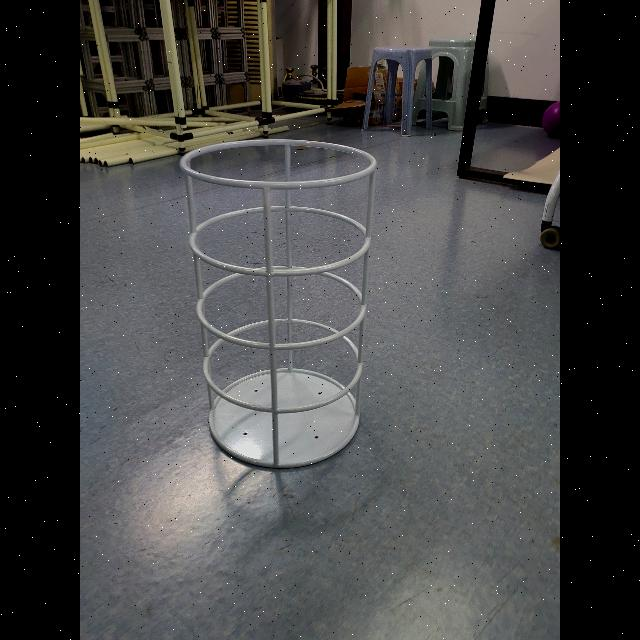S: (178, 138, 378, 472)
